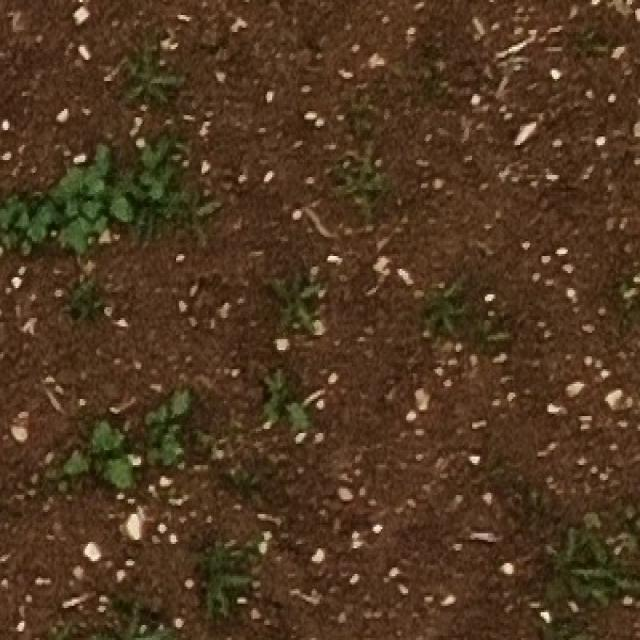cirse: (537, 515, 636, 604), (554, 532, 640, 614), (563, 529, 640, 619), (269, 259, 336, 349), (277, 256, 343, 347), (271, 253, 336, 340), (338, 153, 405, 231), (339, 149, 406, 226), (320, 139, 384, 216), (205, 548, 261, 633), (196, 533, 250, 616), (267, 355, 328, 427), (247, 357, 305, 430), (246, 350, 306, 420), (116, 46, 176, 114), (119, 50, 178, 119), (120, 46, 180, 112), (215, 572, 271, 640), (433, 286, 485, 350), (108, 570, 184, 610), (427, 285, 476, 346), (438, 272, 487, 332), (109, 593, 183, 632), (101, 611, 177, 640), (486, 290, 524, 338), (475, 316, 512, 365), (480, 298, 520, 343)
